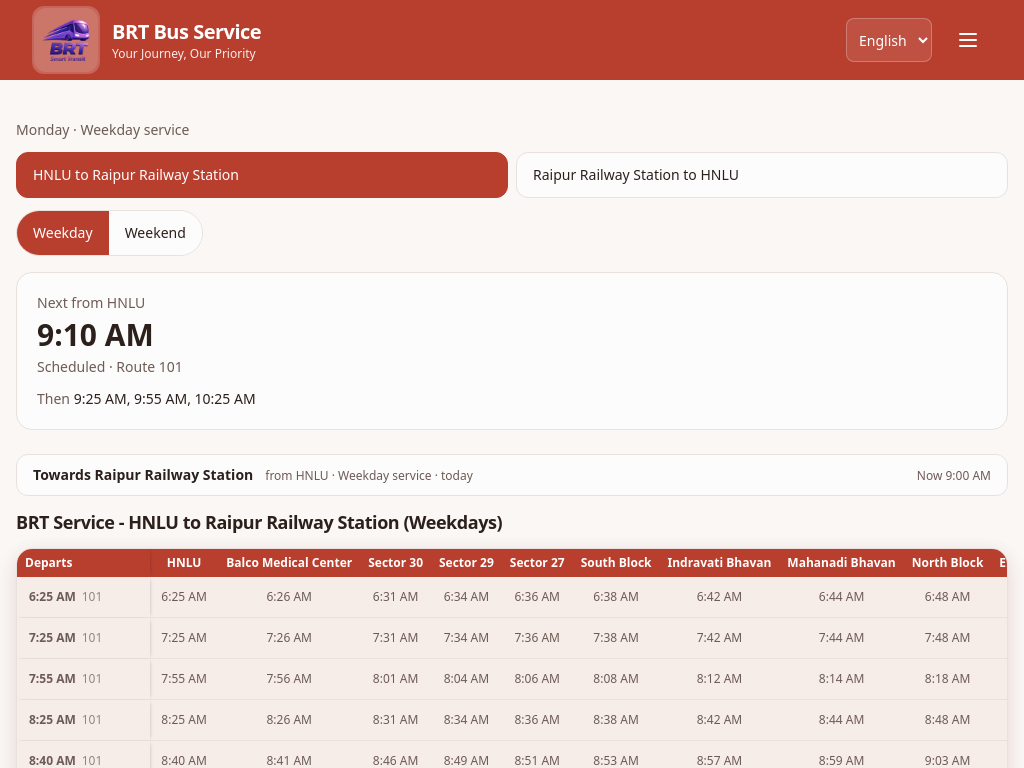
Test: choosing a direction › lays the return working out in travel order, not registry order
The image size is (1024, 768).
Click the button "Raipur Railway Station to HNLU". click: [636, 174]
box: [516,152,1008,198]
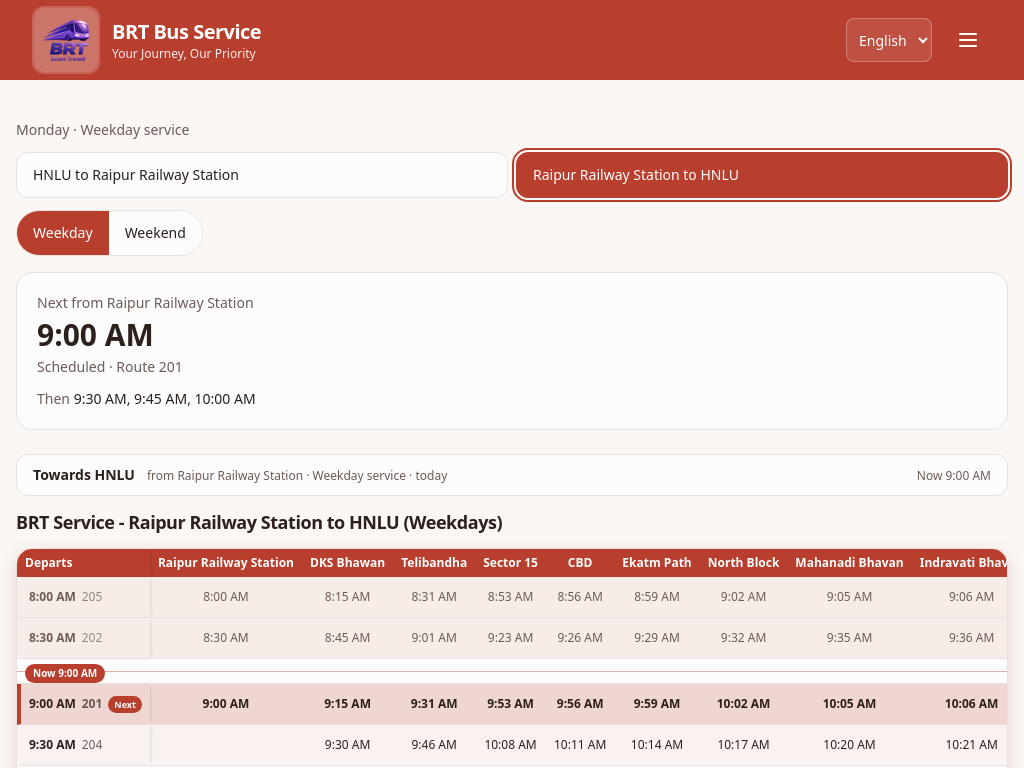
Now the column heading "Raipur Railway Station" is shown, box [150,549,302,577]
